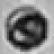correct: (0, 2, 54, 51)
